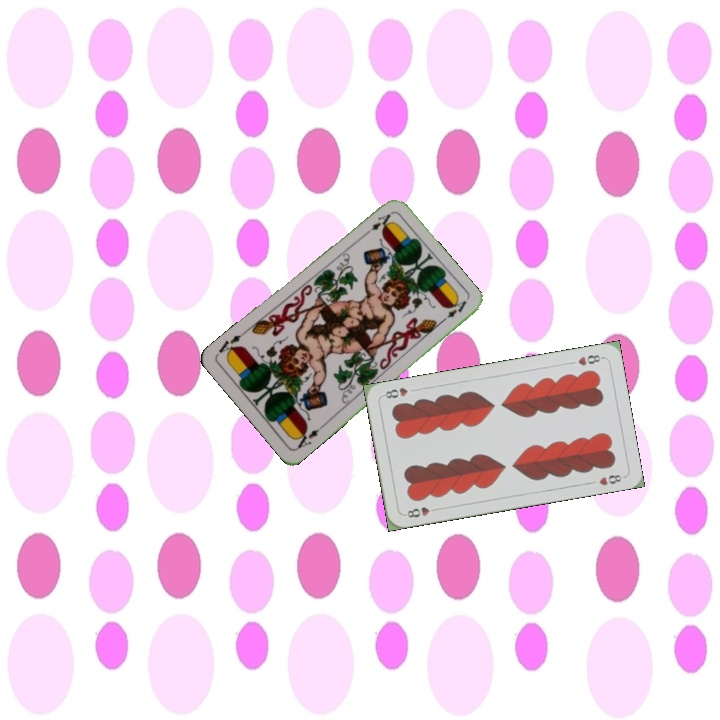EA: (291, 421, 326, 451), (360, 209, 394, 239)
H8: (400, 503, 441, 520), (574, 351, 606, 368)
